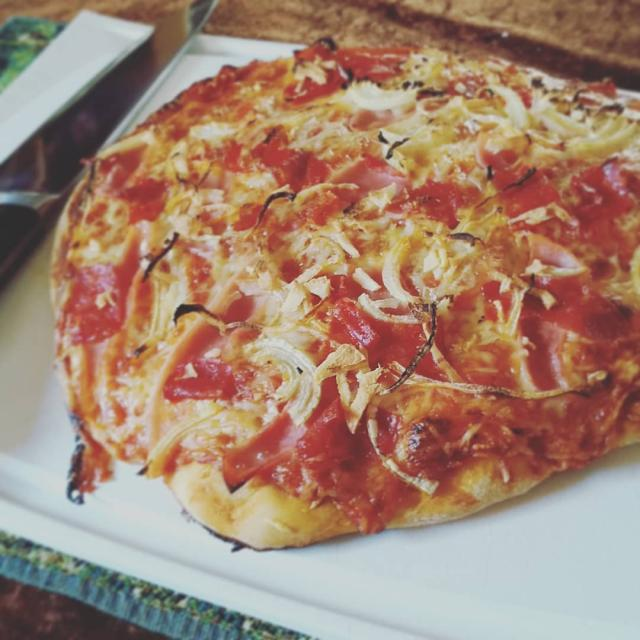pepperoni: (296, 396, 402, 484), (57, 261, 126, 346), (162, 338, 240, 409), (564, 155, 640, 222), (259, 138, 330, 193)
pizza: (52, 41, 640, 549)
